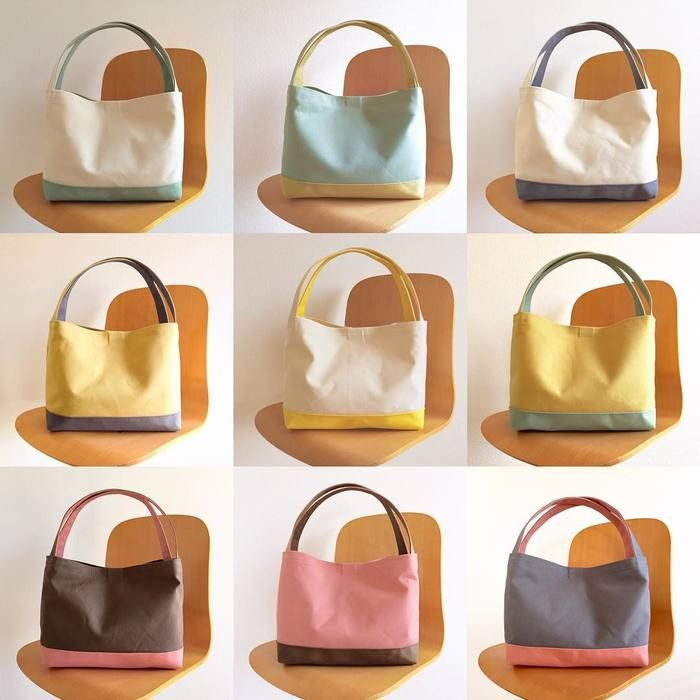nylon: (39, 86, 656, 667)
